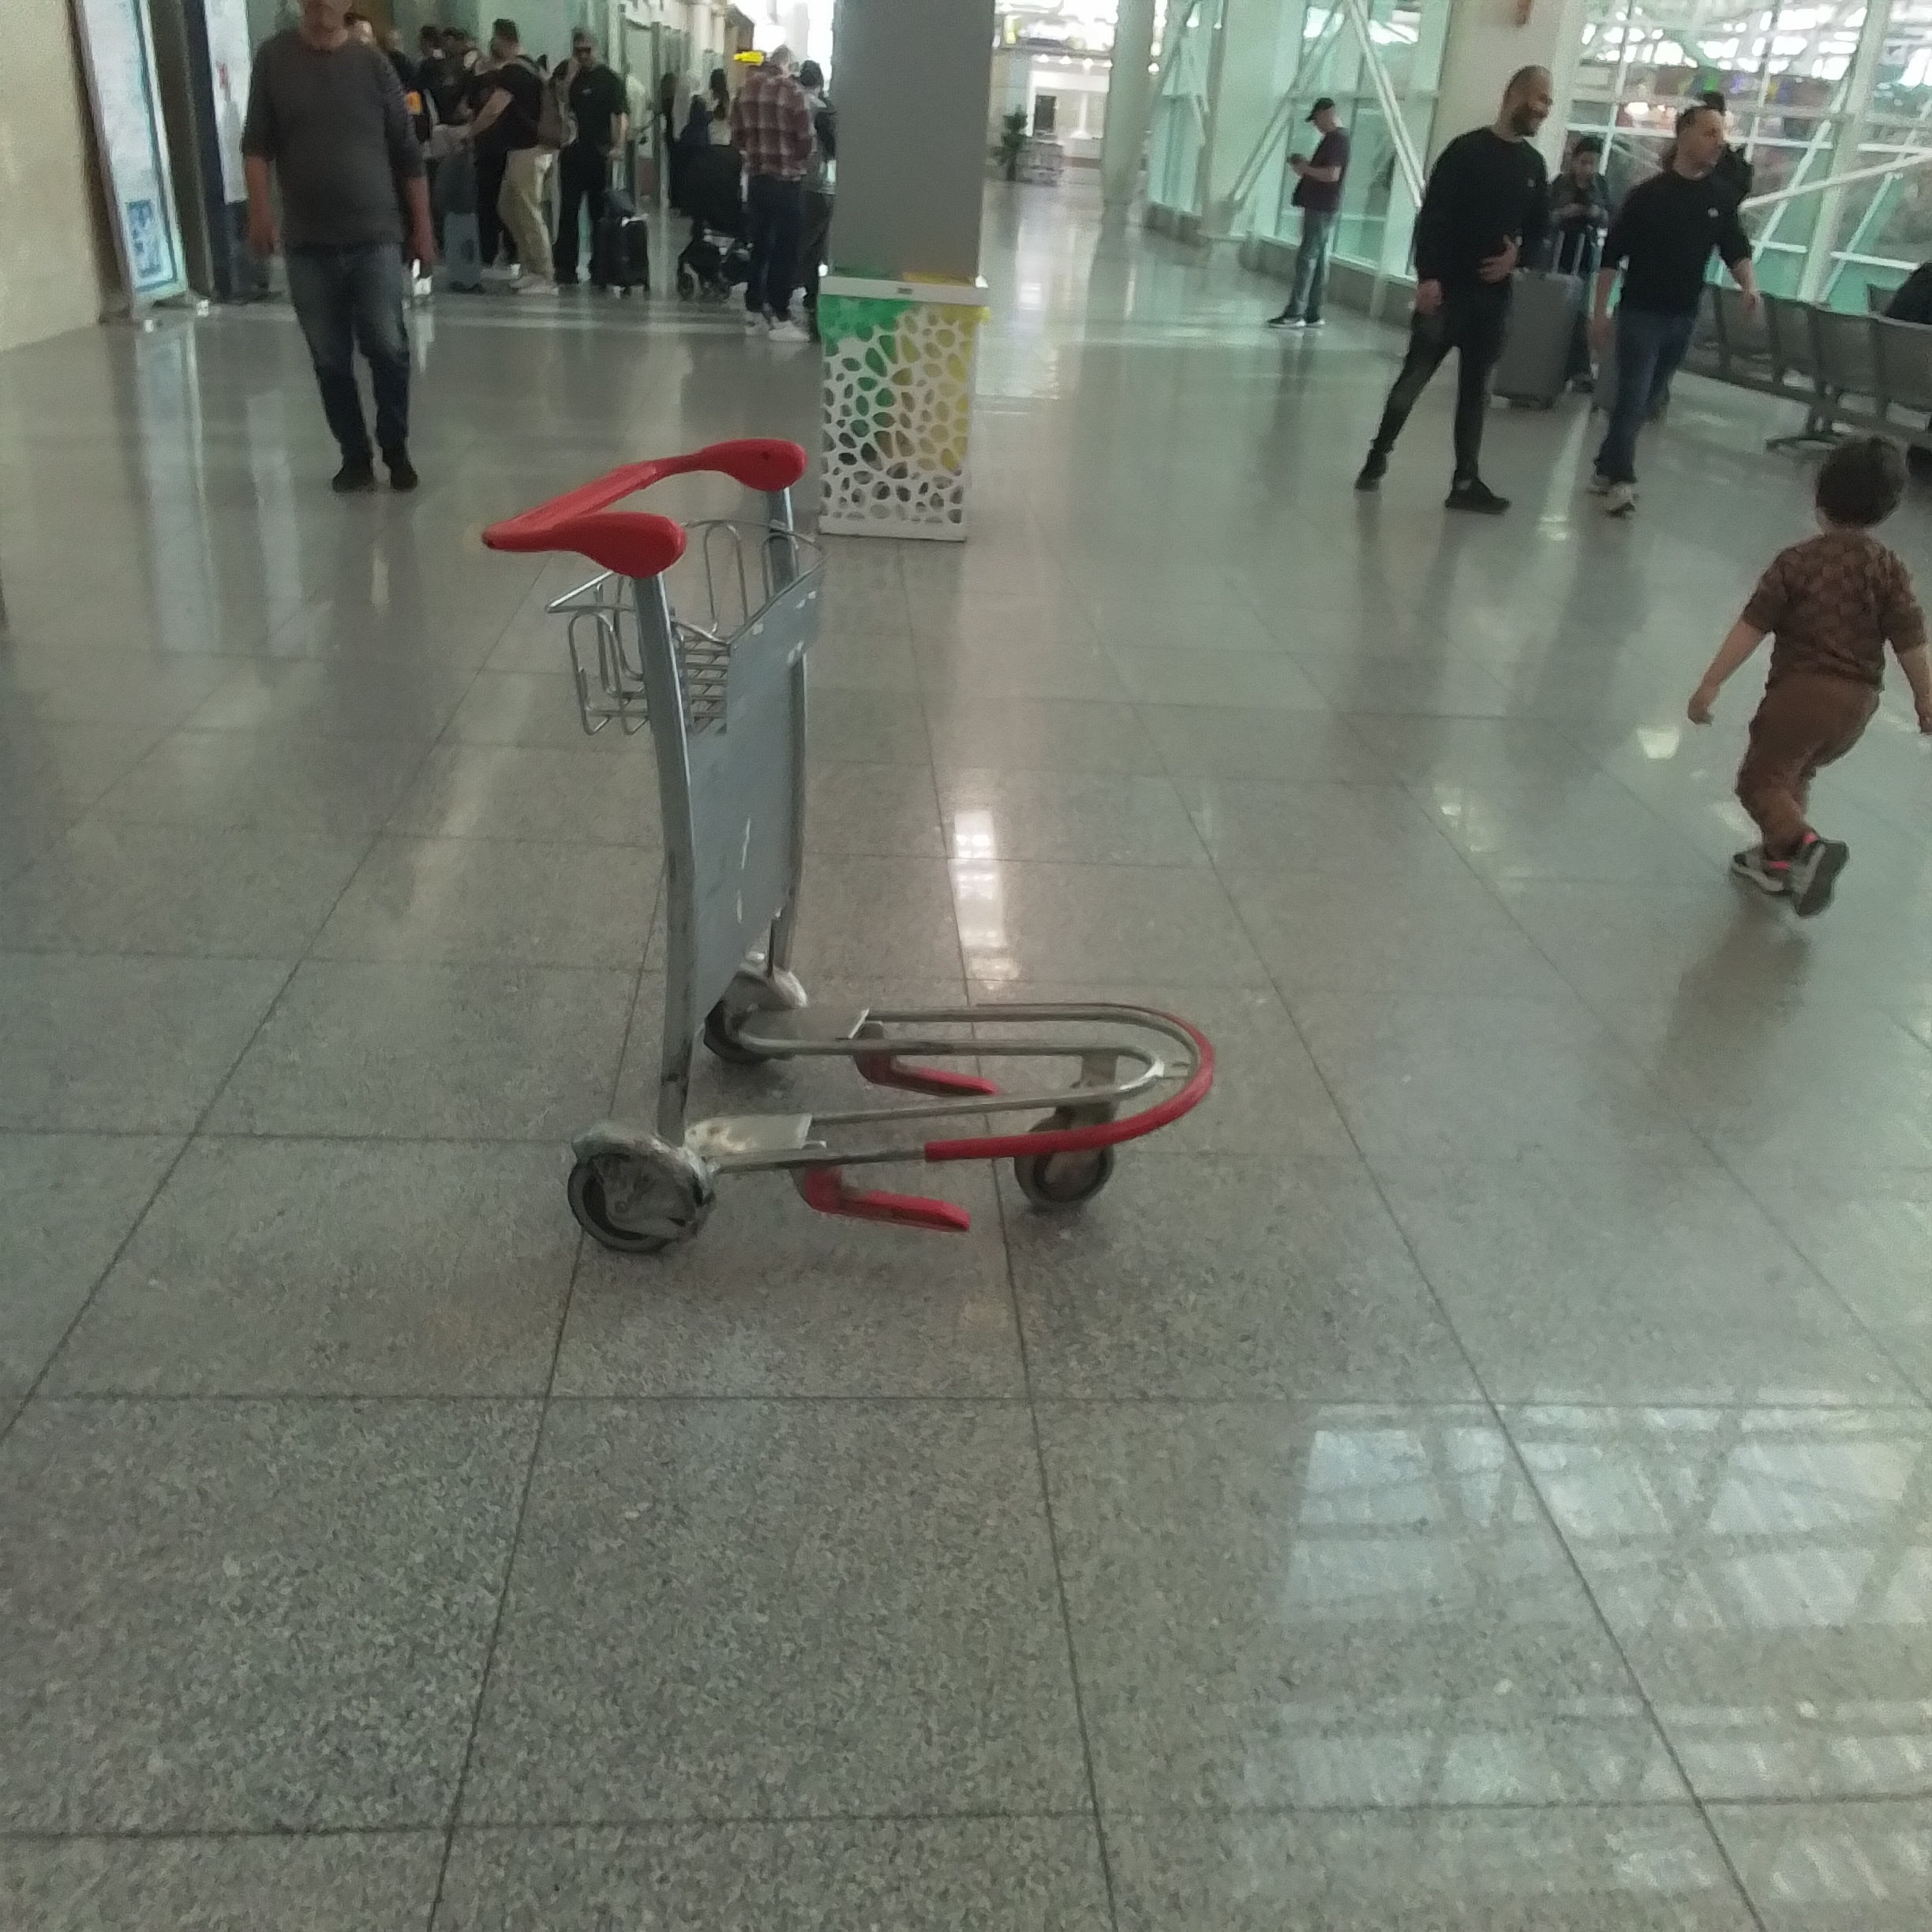airport-trolley: (437, 437, 1217, 1251)
